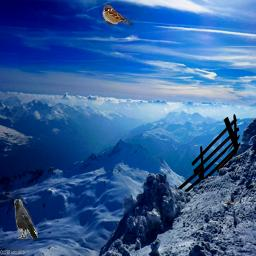Crow: (14, 199, 38, 239)
Sparrow: (101, 5, 133, 26)
